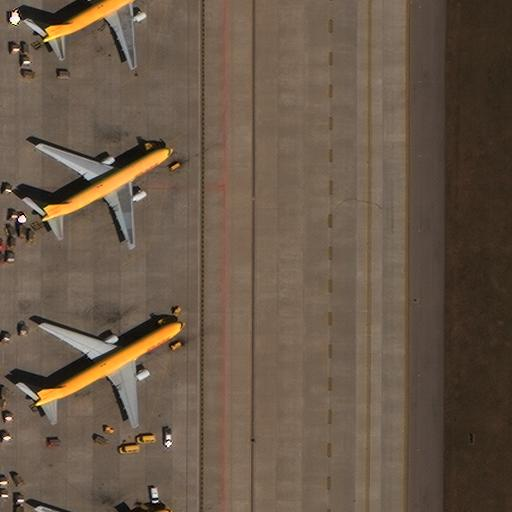Large Civil Transport: (33, 321, 185, 425), (40, 141, 173, 246), (40, 0, 162, 67)
